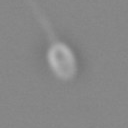normal: (27, 1, 58, 42)
